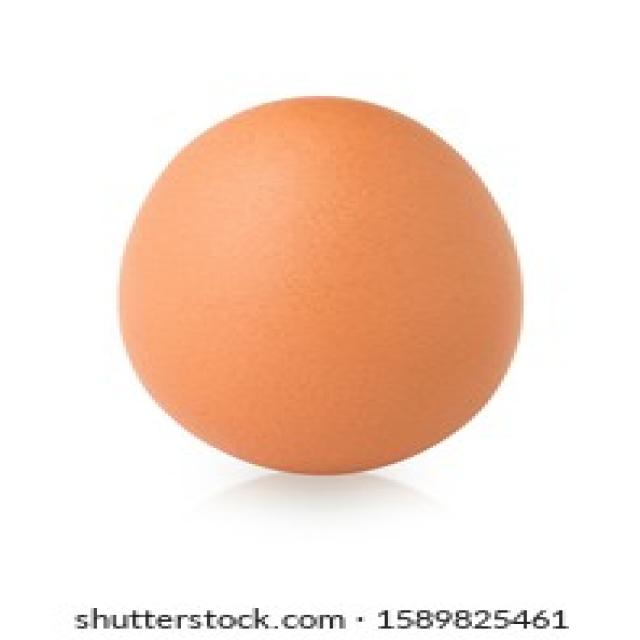Brown Egg: (93, 86, 526, 489)
